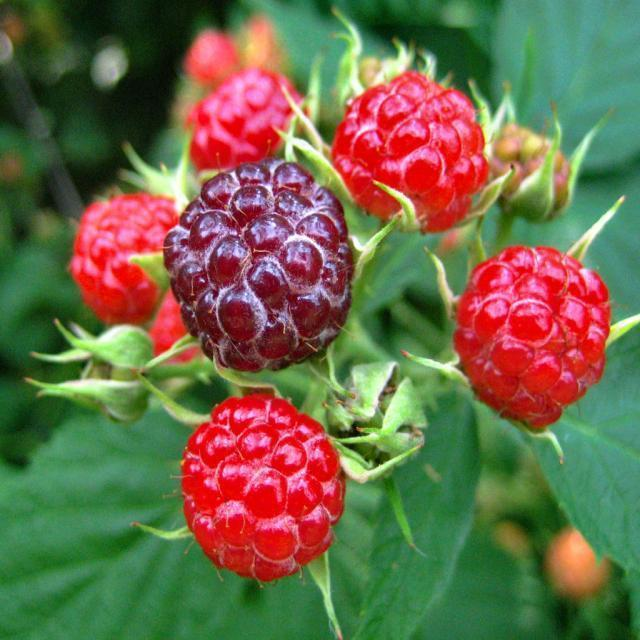Strawberry: (165, 159, 356, 373), (168, 392, 346, 586), (452, 243, 612, 430), (330, 68, 490, 235), (70, 192, 180, 326), (188, 66, 308, 173), (148, 287, 200, 365)
